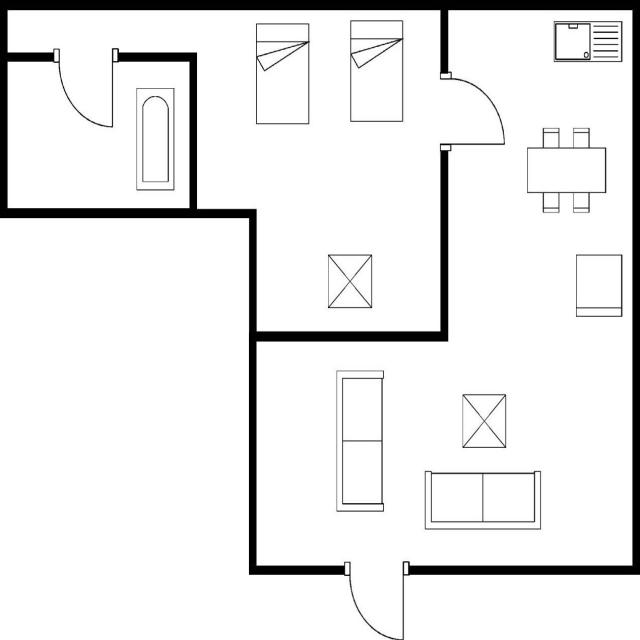bed: (252, 20, 314, 130), (347, 15, 407, 124)
coffee_table: (458, 390, 510, 452), (324, 250, 376, 310)
dining_table: (523, 124, 609, 217)
large_sofa: (420, 467, 545, 535), (334, 365, 388, 515)
sink: (550, 17, 626, 66)
small_sofa: (572, 249, 626, 324)
tub: (134, 85, 176, 193)
